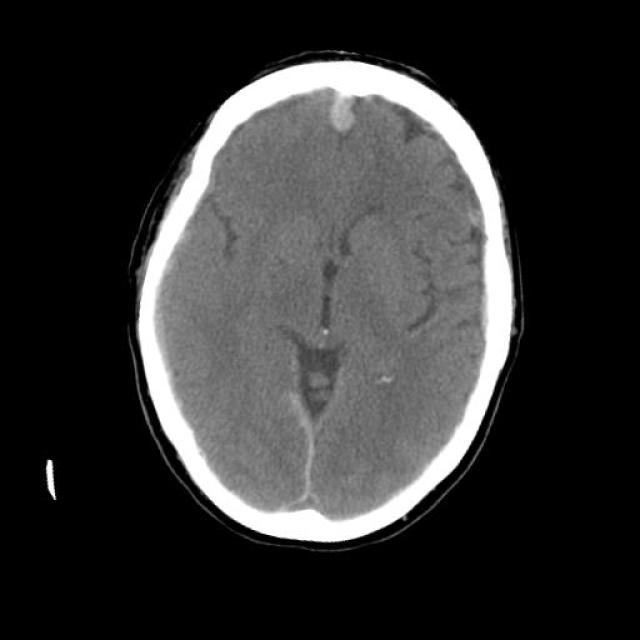Subdural: (267, 388, 341, 538), (276, 64, 380, 164)
